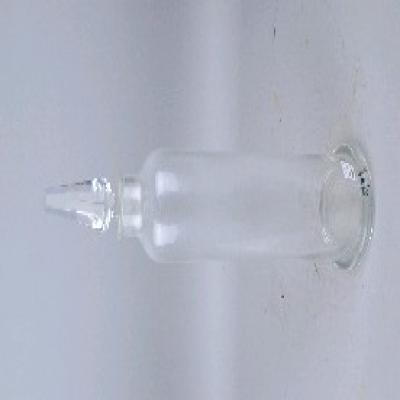technique: (46, 143, 377, 272)
